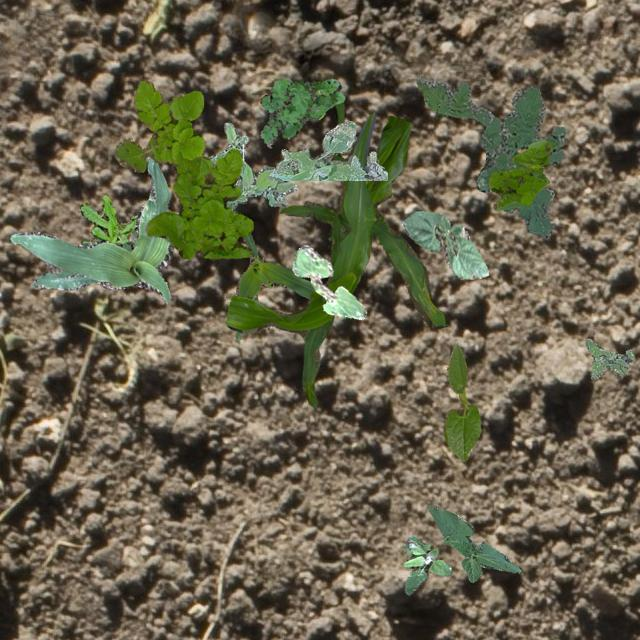crop: (225, 101, 448, 406), (10, 156, 172, 304), (234, 232, 314, 338), (427, 504, 519, 582), (400, 210, 488, 278), (292, 244, 366, 318), (442, 342, 480, 460)
weed: (114, 80, 252, 258), (416, 76, 564, 238), (208, 122, 296, 210), (266, 120, 386, 180), (260, 77, 344, 146), (486, 140, 552, 210), (402, 534, 451, 594), (78, 194, 136, 244), (584, 338, 634, 378)
